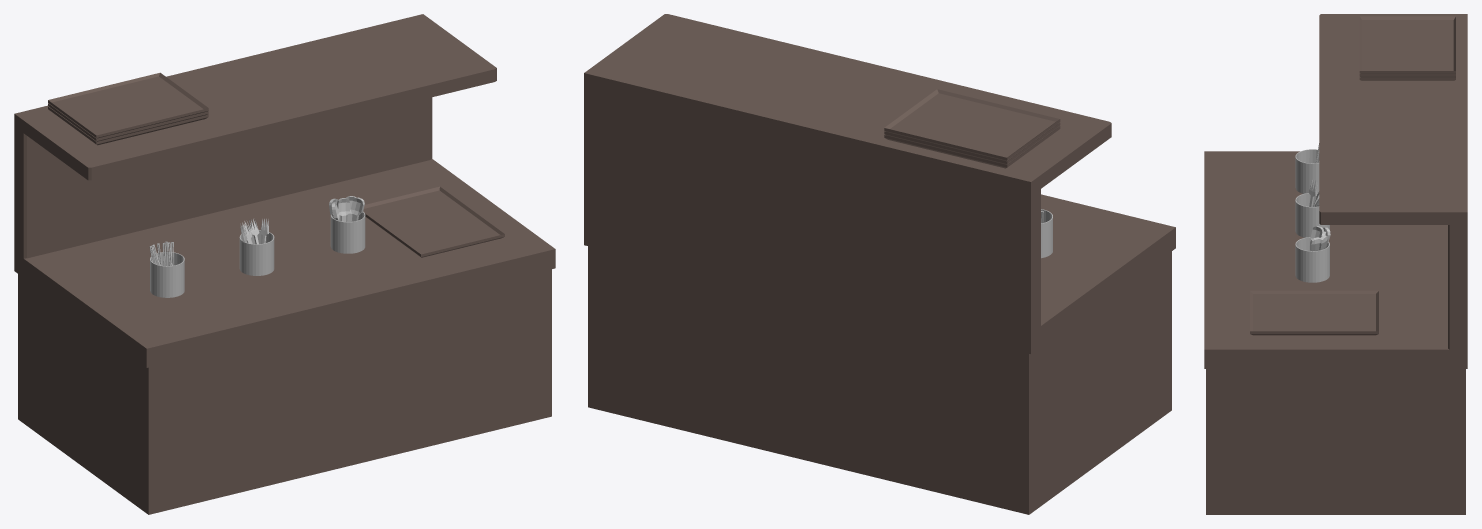
Rendered from UtensilCounter.fbx.
3 views of the same model, side by side, from view 1: azimuth 30°, elevation 25°; view 2: azimuth 150°, elevation 25°; view 3: azimuth 270°, elevation 25° (orthographic). The views are drawn at different scales.
Parts seen in each view (by area): view 1: Tray3, Spoon5; view 2: Tray3; view 3: Tray3, Spoon5.
Boxes of the visible parts, x1,y1,x2,y2 form: Tray3: (14, 14, 555, 514); Spoon5: (149, 196, 365, 297); Tray3: (584, 14, 1175, 514); Tray3: (1204, 14, 1467, 514); Spoon5: (1295, 143, 1330, 282).
Size of the model in its own units: 225 by 167 by 126.
